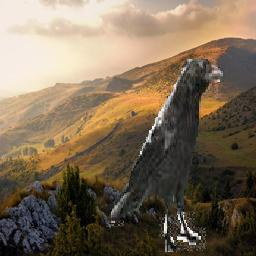Crow: (107, 60, 226, 253)
